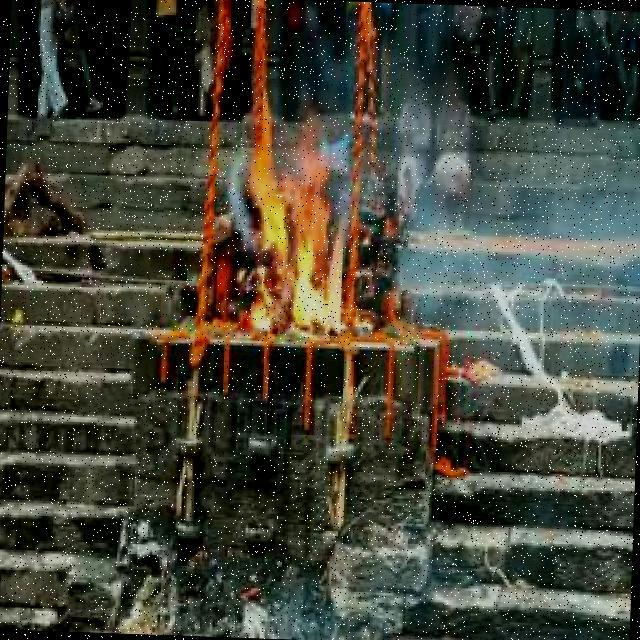Fire: (239, 115, 357, 338)
